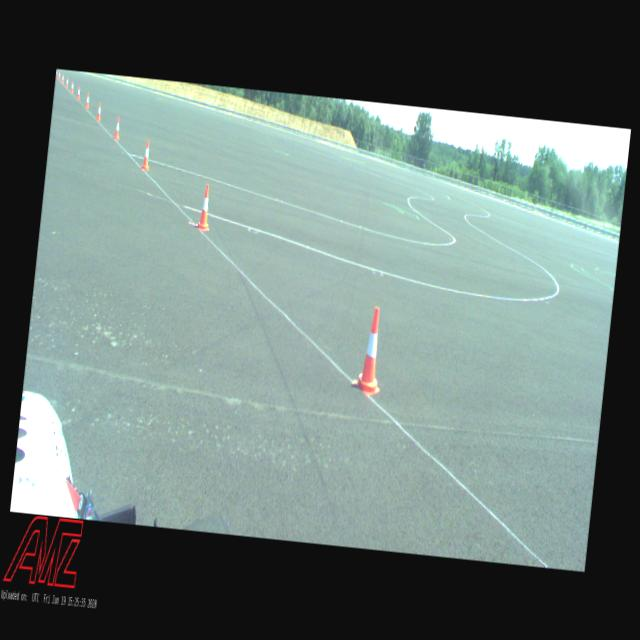orange_cone: (354, 305, 388, 397), (196, 183, 213, 231), (140, 139, 152, 170), (113, 116, 121, 138), (95, 102, 102, 120), (84, 92, 90, 108), (76, 86, 81, 100), (70, 80, 74, 92), (64, 76, 68, 87), (58, 70, 61, 80), (61, 73, 64, 82), (56, 68, 58, 77)
